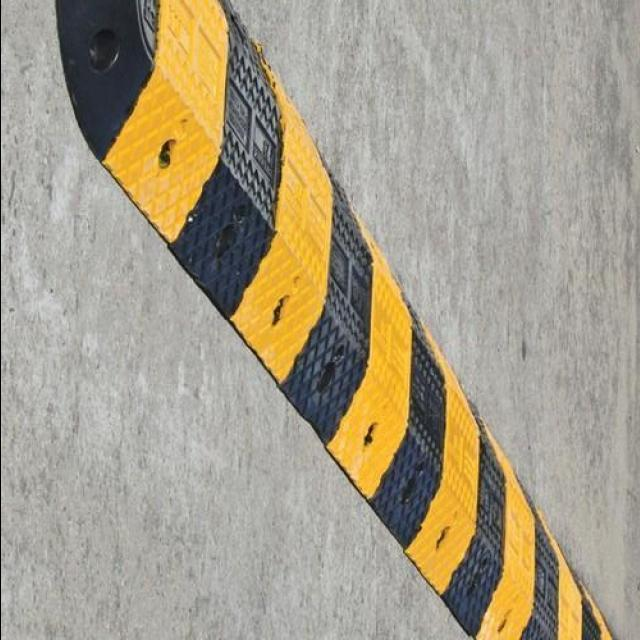speedbreaker: (67, 0, 616, 640)
